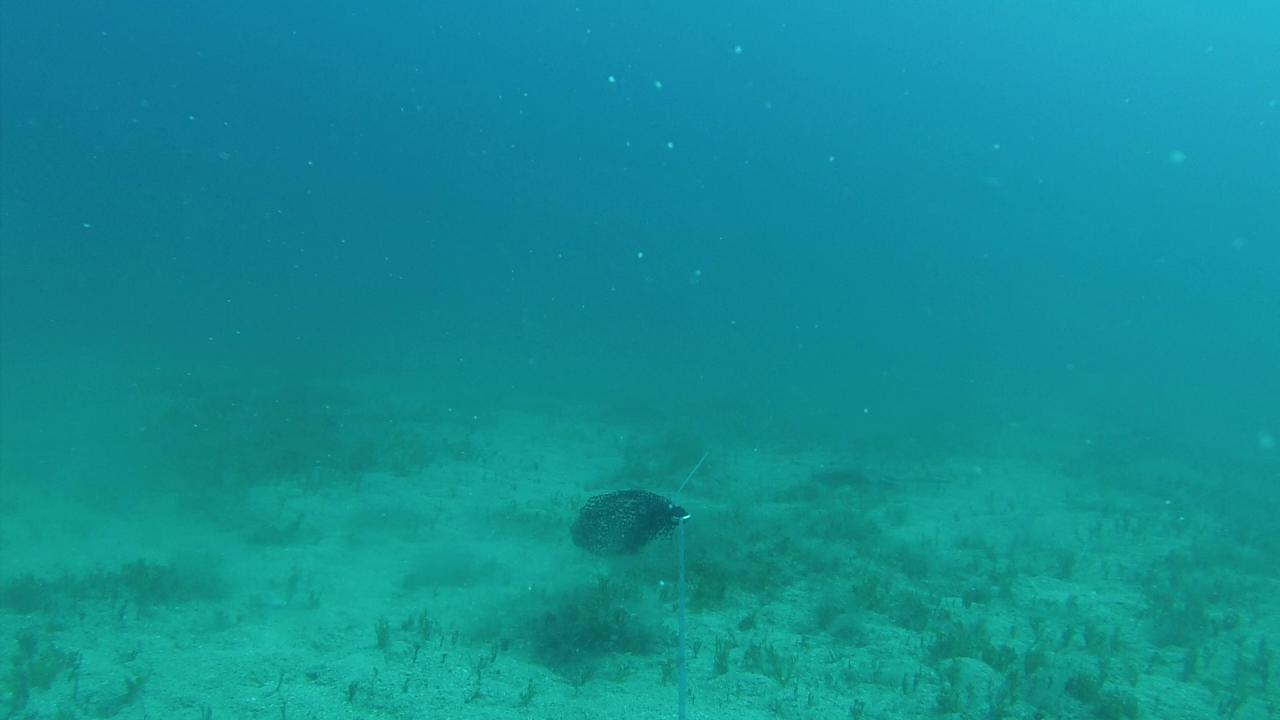dasyatis: (811, 454, 954, 488)
